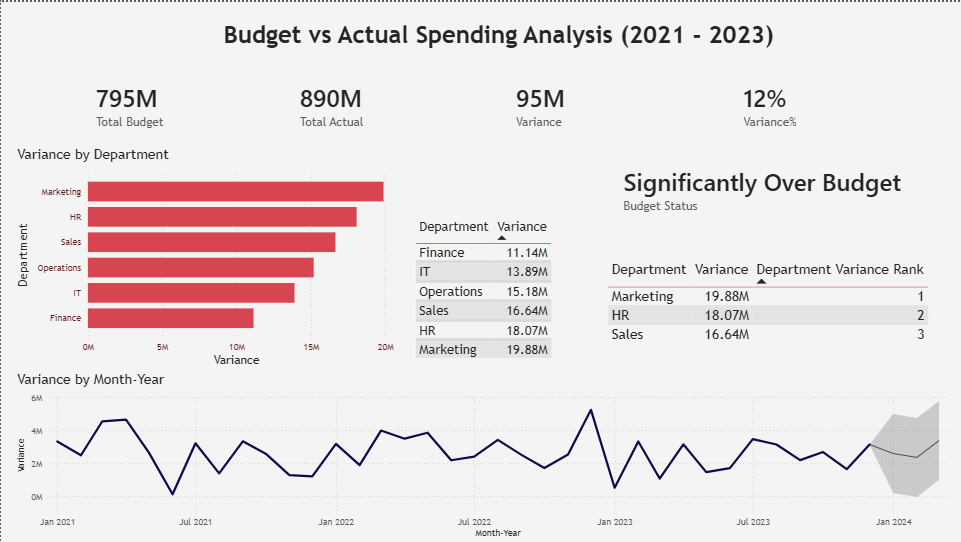

The page's visual inventory and layout, read from the dashboard file:
{"tool":"powerbi","page":{"name":"Page 1","canvas":[1280,720],"ordinal":0},"visuals":[{"type":"cardVisual","fields":{"Data":["Sheet1.Total Budget"]},"box":[96,80,256,112],"z":0},{"type":"cardVisual","fields":{"Data":["Sheet1.Total Actual"]},"box":[368,80,272,112],"z":1000},{"type":"cardVisual","fields":{"Data":["Sheet1.Variance"]},"box":[656,80,304,112],"z":2000},{"type":"cardVisual","fields":{"Data":["Sheet1.Variance%"]},"box":[960,80,272,112],"z":3000},{"type":"clusteredBarChart","fields":{"Category":["Sheet1.Department"],"Y":["Sheet1.Variance"]},"box":[16,192,512,300],"z":4000},{"type":"lineChart","fields":{"Y":["Sheet1.Variance"],"Category":["Sheet1.Month-Year"]},"box":[16.7,491.7,1263.3,228.3],"z":5000},{"type":"cardVisual","fields":{"Data":["Sheet1.Budget Status"]},"box":[800,191.7,436,113],"z":6000},{"type":"tableEx","fields":{"Values":["Sheet1.Department","Sheet1.Variance"]},"box":[546,284,228,208],"z":7000},{"type":"tableEx","fields":{"Values":["Sheet1.Department","Sheet1.Variance","Sheet1.Department Variance Rank"]},"box":[804,338,458,142],"z":8000},{"type":"textbox","box":[292,20,790,70],"z":9000}]}

Visuals, with their boxes in screenshot pixels (x1, y1, x2, y2), scaled from the page's 1280x720 canvas onto the 961x542 screenshot:
cardVisual - Sheet1.Total Budget: detection(72, 60, 264, 145)
cardVisual - Sheet1.Total Actual: detection(276, 60, 480, 145)
cardVisual - Sheet1.Variance: detection(493, 60, 721, 145)
cardVisual - Sheet1.Variance%: detection(721, 60, 925, 145)
clusteredBarChart - Sheet1.Department x Sheet1.Variance: detection(12, 145, 396, 370)
lineChart - Sheet1.Variance x Sheet1.Month-Year: detection(13, 370, 960, 541)
cardVisual - Sheet1.Budget Status: detection(601, 144, 928, 229)
tableEx - Sheet1.Department x Sheet1.Variance: detection(410, 214, 581, 370)
tableEx - Sheet1.Department x Sheet1.Variance: detection(604, 254, 947, 361)
textbox: detection(219, 15, 812, 68)
